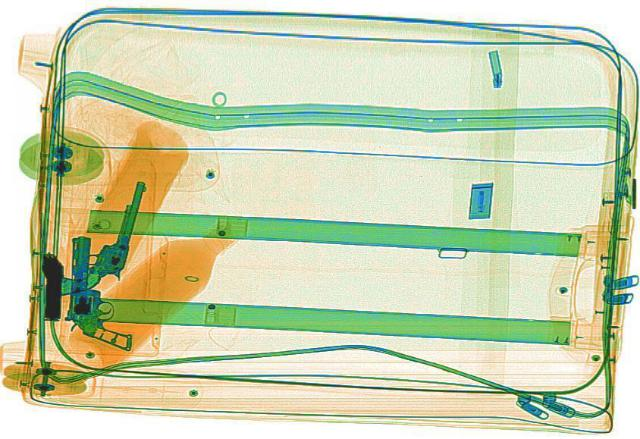Gun: (25, 230, 147, 362), (71, 177, 163, 288), (32, 254, 68, 320)
